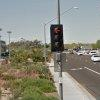Traffic light: (42, 18, 71, 63)
